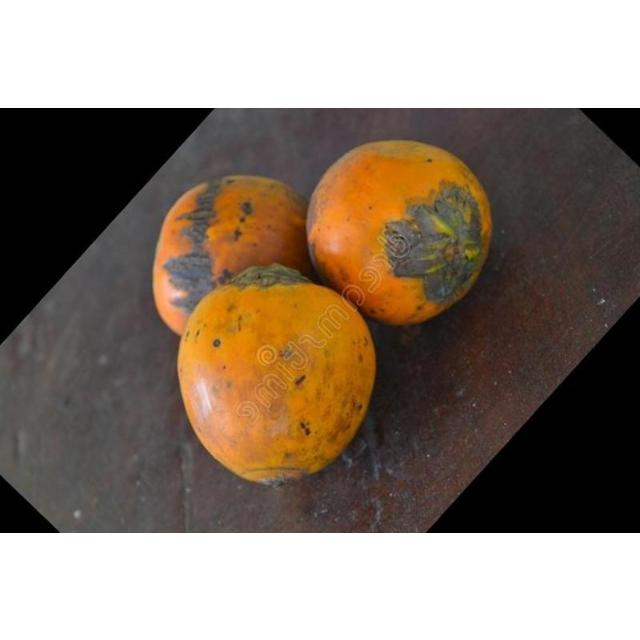good: (177, 264, 378, 485), (306, 139, 494, 327), (156, 175, 318, 327)
